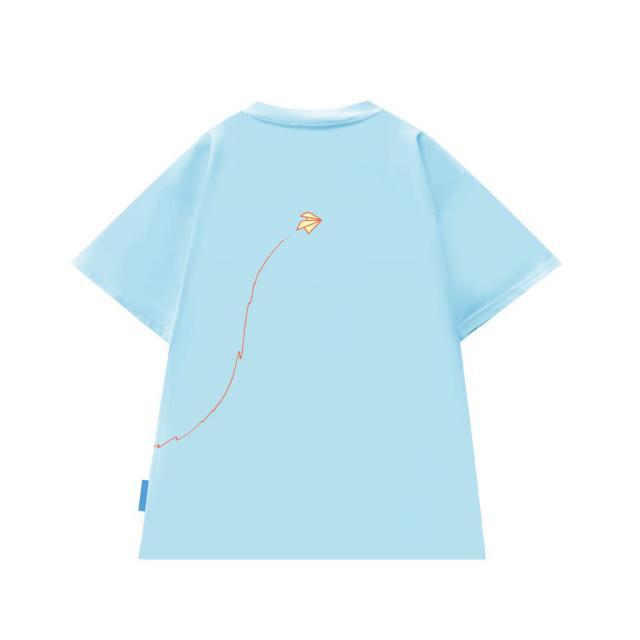Shirt: (64, 92, 570, 560)
